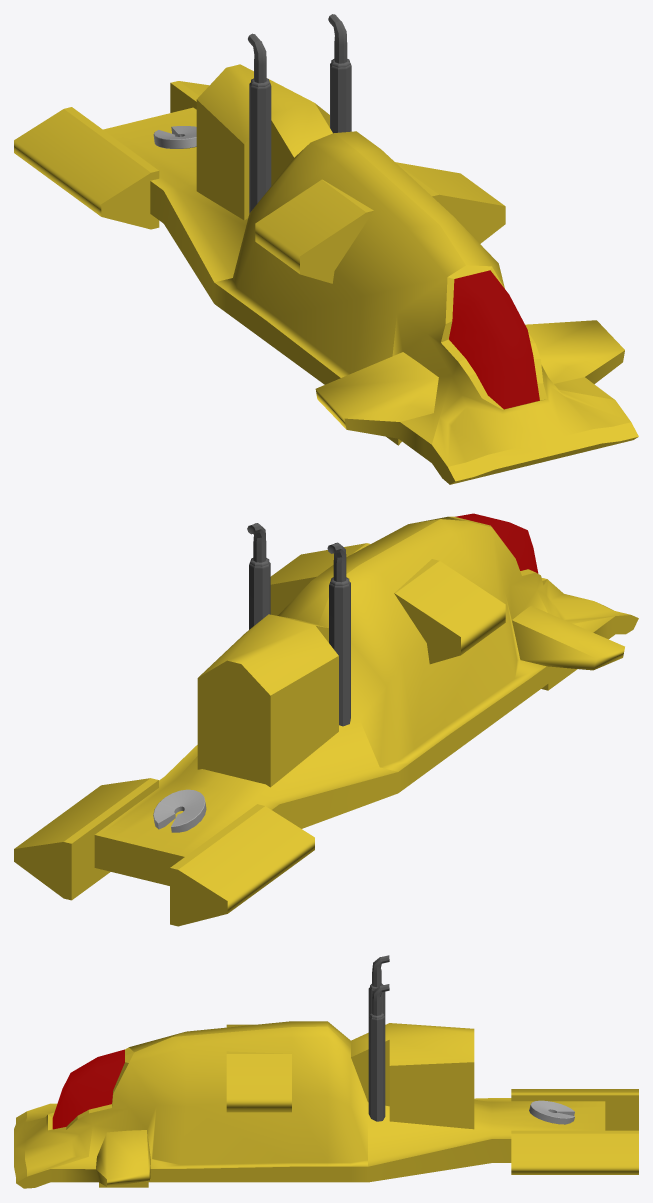
Rendered from truckTest2.fbx.
The picture shows the model from 3 angles, top to bottom: view 1: azimuth 30°, elevation 25°; view 2: azimuth 150°, elevation 25°; view 3: azimuth 270°, elevation 25°; orthographic projection. The views are drawn at different scales.
Parts seen in each view (by area): view 1: group4; view 2: group4; view 3: group4.
Boxes of the visible parts, x1=… form: group4: x1=14, y1=14, x2=638, y2=484; group4: x1=14, y1=513, x2=638, y2=926; group4: x1=14, y1=955, x2=638, y2=1188.
Size of the model in its own units: 2.8 by 2.43 by 7.37.
